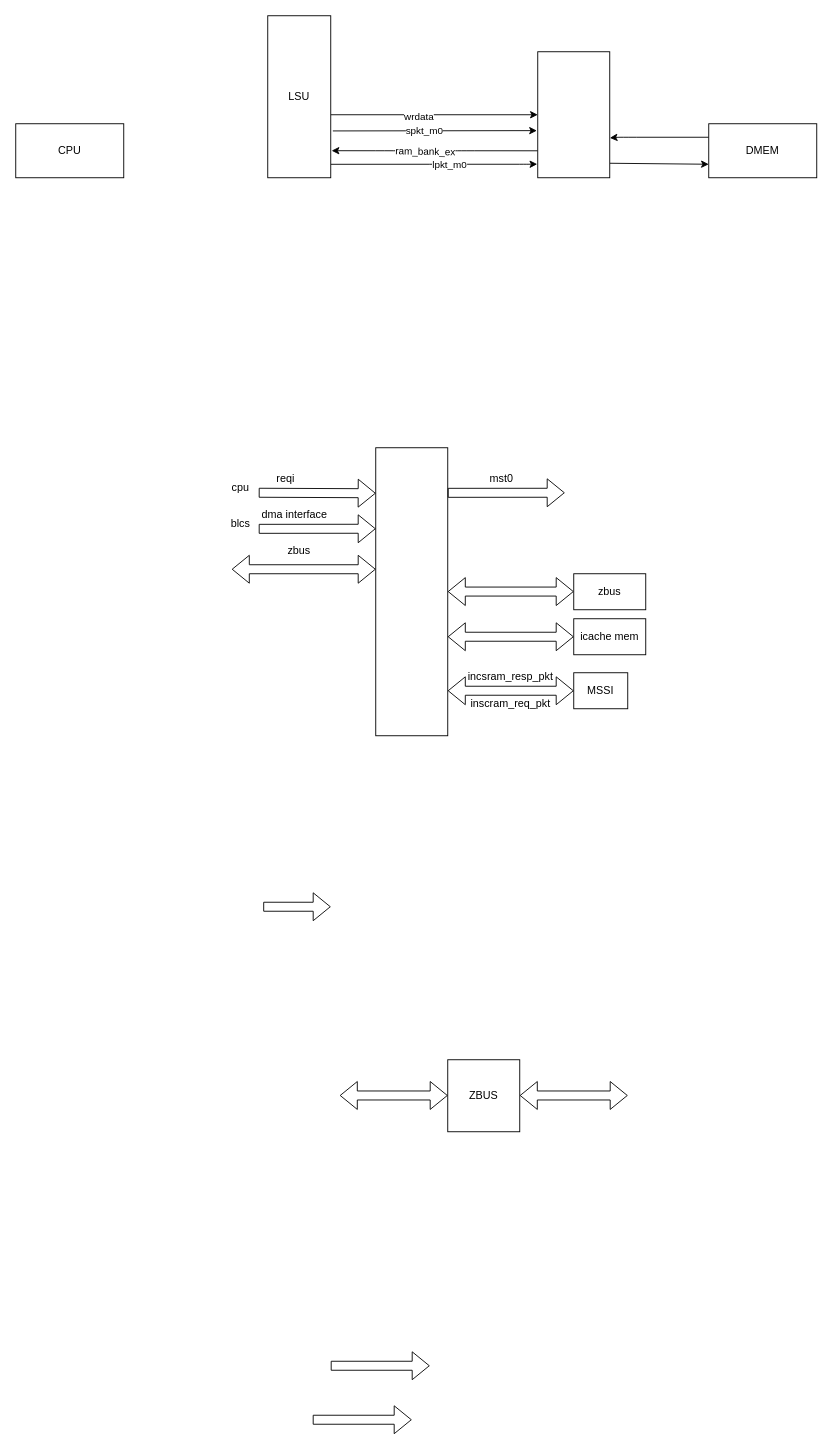
The diagram is 833 pixels wide and 1450 high, and some of its shapes have lost their labels. Each missing label, with the box of its shape:
icache_sys: (375, 447, 448, 736)
MSSD: (537, 51, 610, 178)
